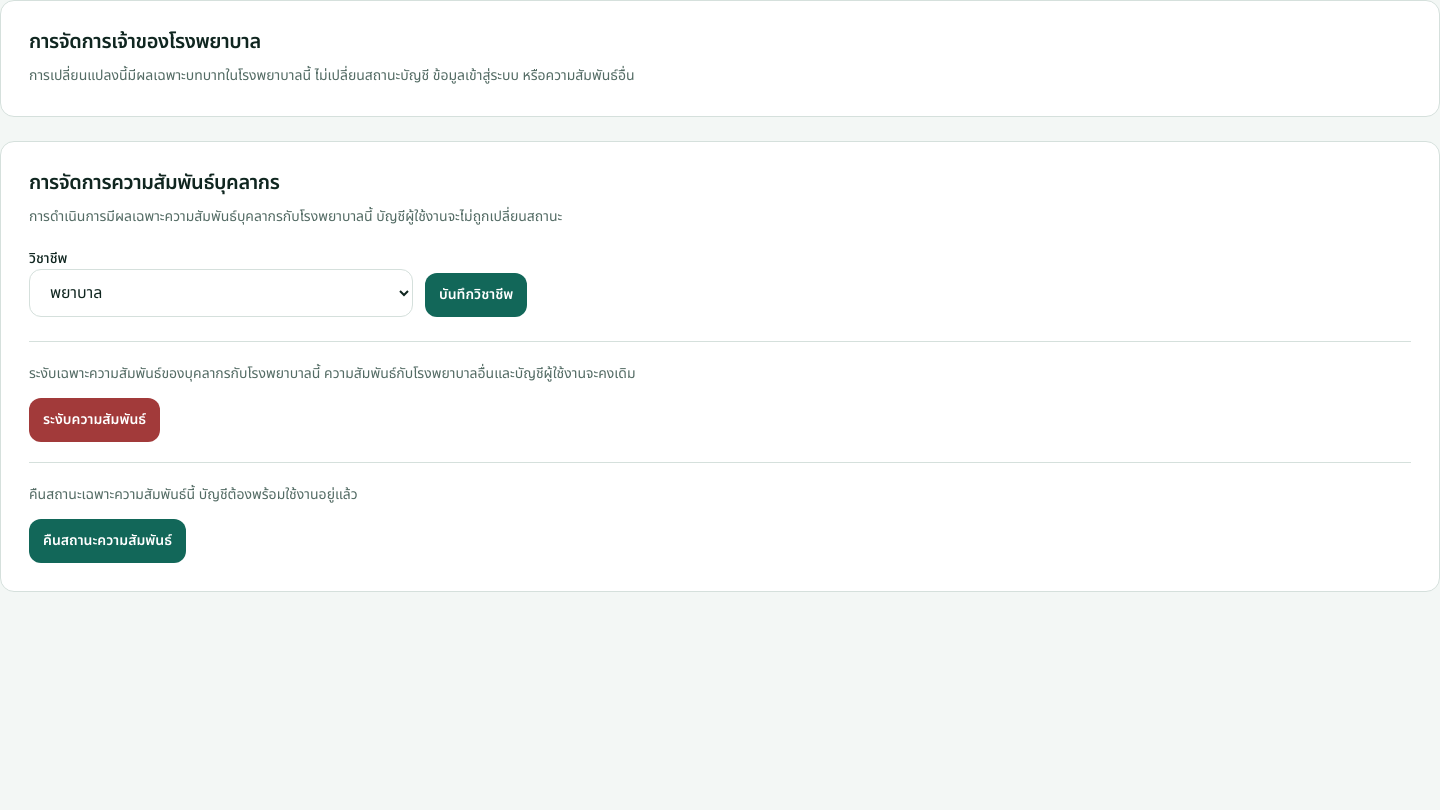
Test: Staff membership controls Toasts › suspend: keeps validation errors inline with no Toast
This screenshot has width=1440, height=810.
Click the button "ระงับความสัมพันธ์": (95, 420) [29,398,160,442]
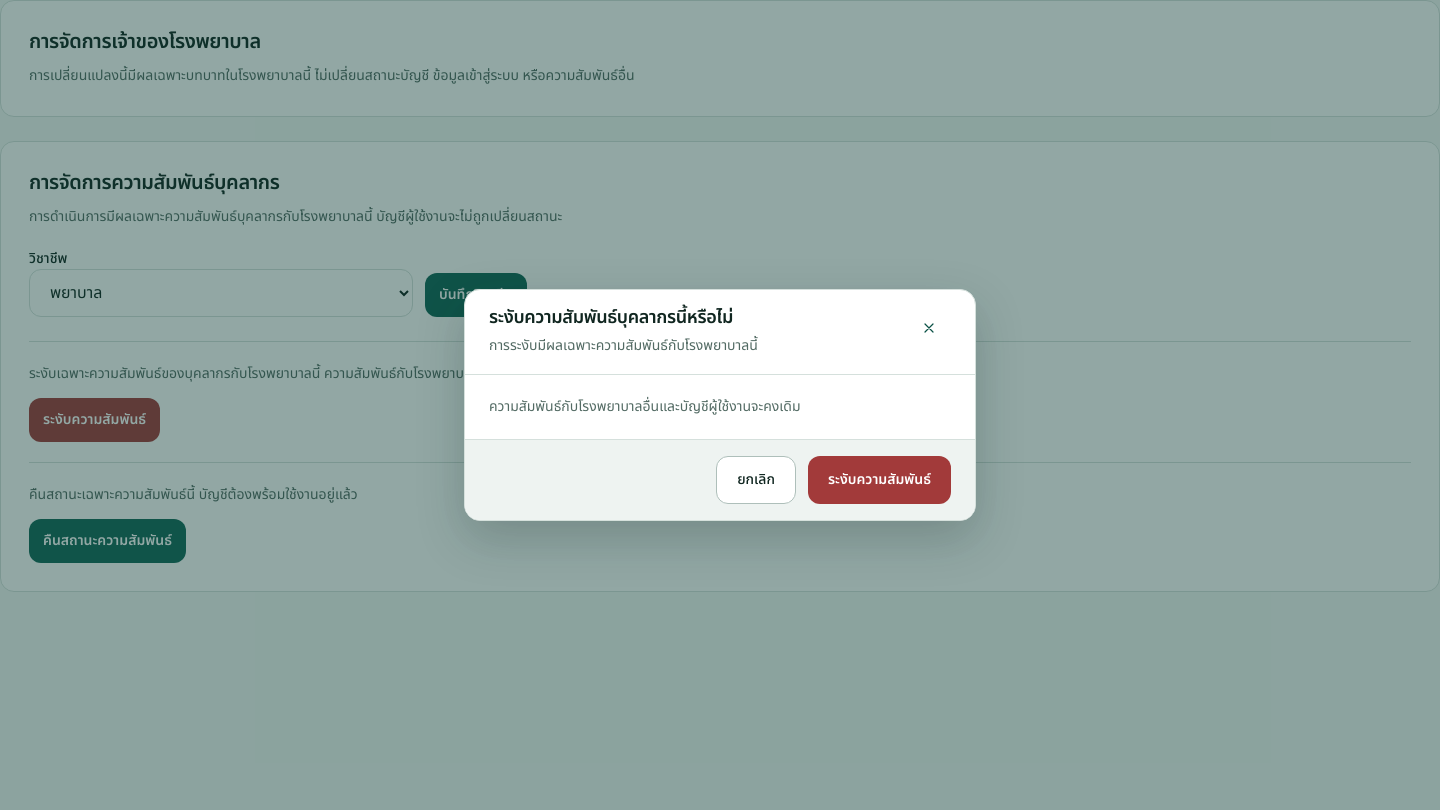
Click the button "ระงับความสัมพันธ์": (879, 480) [808,456,951,504]
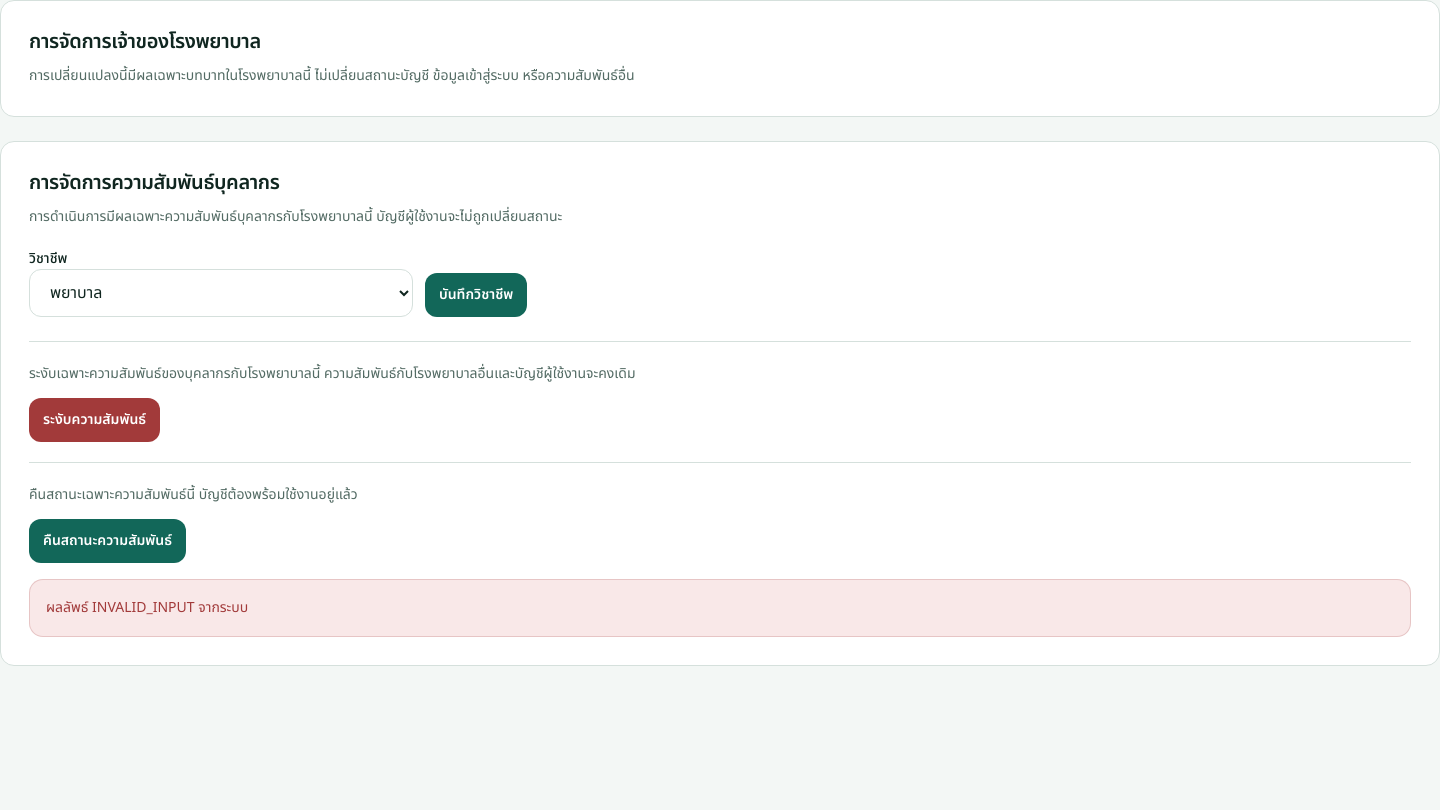
Result: the text "ผลลัพธ์ INVALID_INPUT จากระบบ" is shown at [29,579,1411,637]
